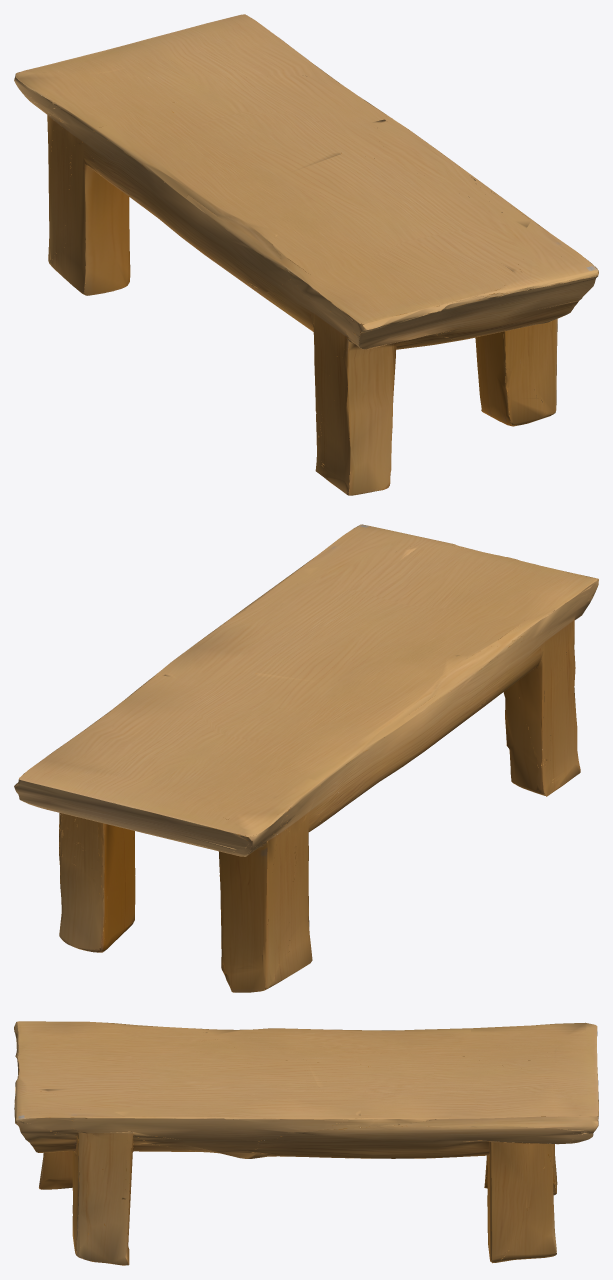
Rendered from hunyuan-wooden-bench.glb.
The picture shows the model from 3 angles, top to bottom: view 1: azimuth 30°, elevation 25°; view 2: azimuth 150°, elevation 25°; view 3: azimuth 270°, elevation 25°; orthographic projection. The views are drawn at different scales.
Visible parts, largest first — view 1: node_0; view 2: node_0; view 3: node_0.
Boxes of the visible parts, x1=… form: node_0: x1=14, y1=14, x2=598, y2=495; node_0: x1=14, y1=524, x2=598, y2=992; node_0: x1=14, y1=1021, x2=598, y2=1265.
Bounding box in the file's own units: 0.4278 × 0.3203 × 1.08.
Materials: 1 (1 with a texture image).
